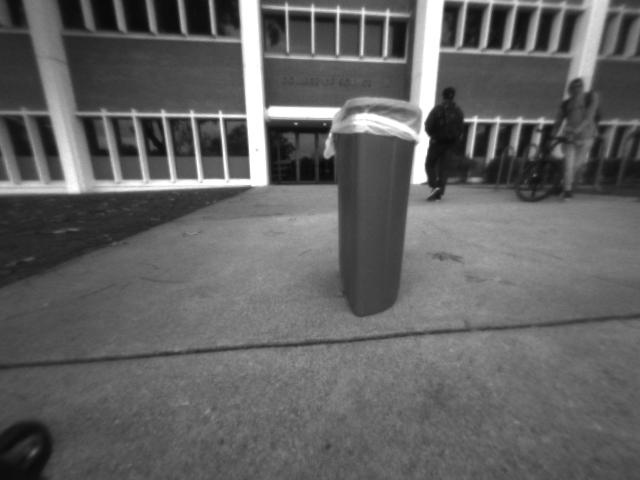trashcan_open: (320, 88, 426, 328)
